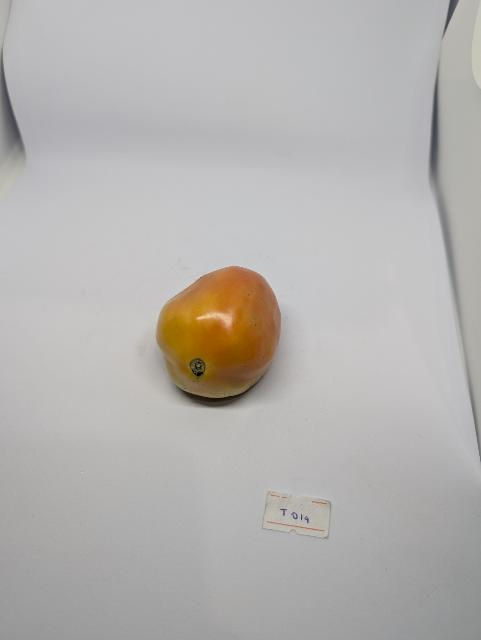turning: (151, 257, 292, 405)
